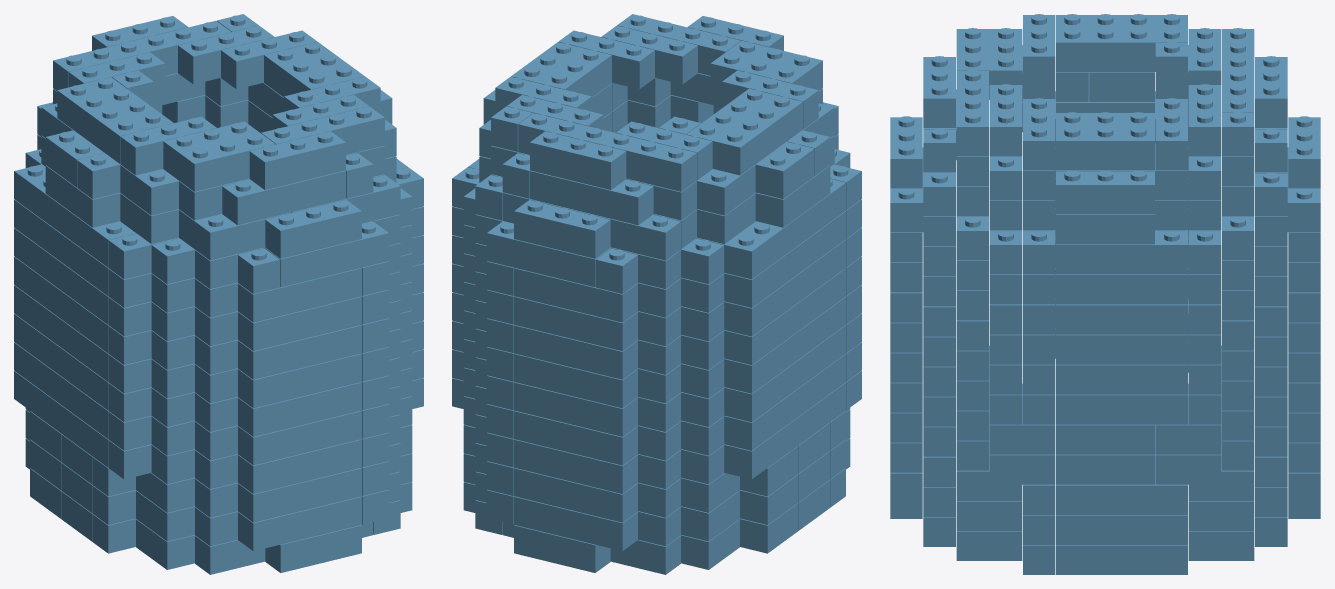
Rendered from 174_jar_L4.glb.
The picture shows the model from 3 angles, left to right: view 1: azimuth 30°, elevation 25°; view 2: azimuth 150°, elevation 25°; view 3: azimuth 270°, elevation 25°; orthographic projection. The views are drawn at different scales.
Bounding box in the file's own units: 10.98 × 14.13 × 12.98.
